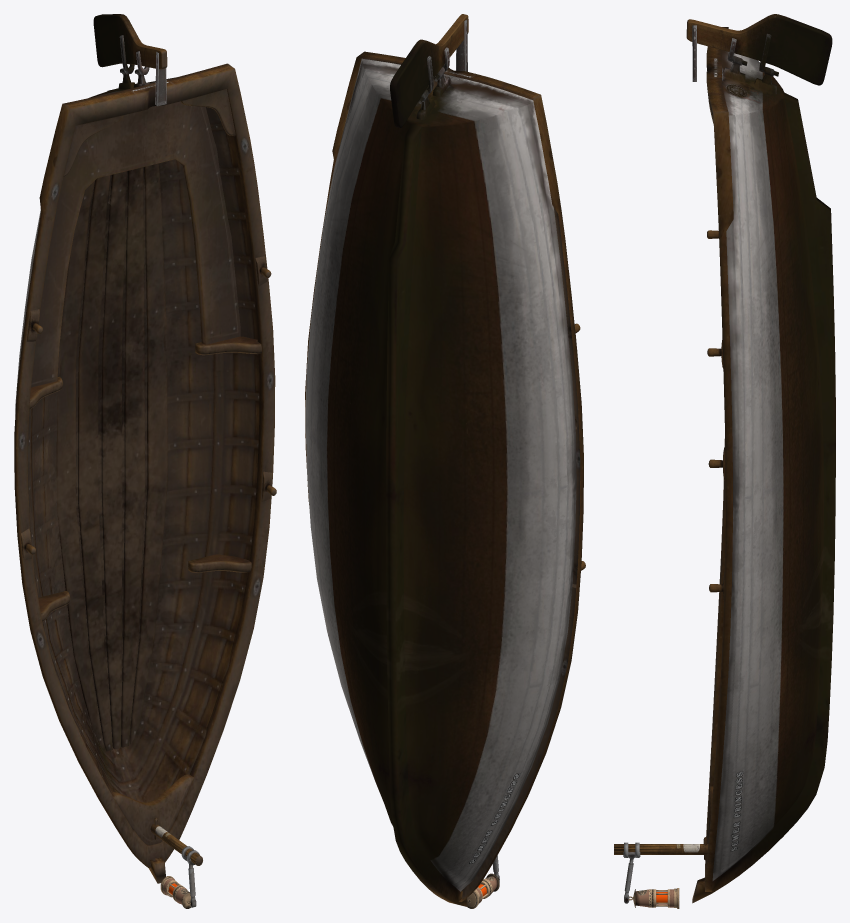
File: BOAT2.fbx
3 renders of one model, left to right at view 1: azimuth 30°, elevation 25°; view 2: azimuth 150°, elevation 25°; view 3: azimuth 270°, elevation 25°, orthographic. The views are drawn at different scales.
Parts seen in each view (by area): view 1: defaultMaterial.019; view 2: defaultMaterial.019; view 3: defaultMaterial.019.
Part boxes in pixels (x1,y1,x2,y2): defaultMaterial.019: (14,14,276,908); defaultMaterial.019: (305,14,585,908); defaultMaterial.019: (614,14,835,908).
Bounding box in the file's own units: 0.6376 × 2 × 0.4503.
2 materials, 1 textured.
